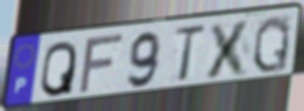9: (127, 28, 163, 89)
F: (76, 31, 127, 97)
Q: (250, 13, 293, 75), (38, 39, 79, 99)
T: (172, 22, 208, 85)
X: (202, 17, 255, 81)
